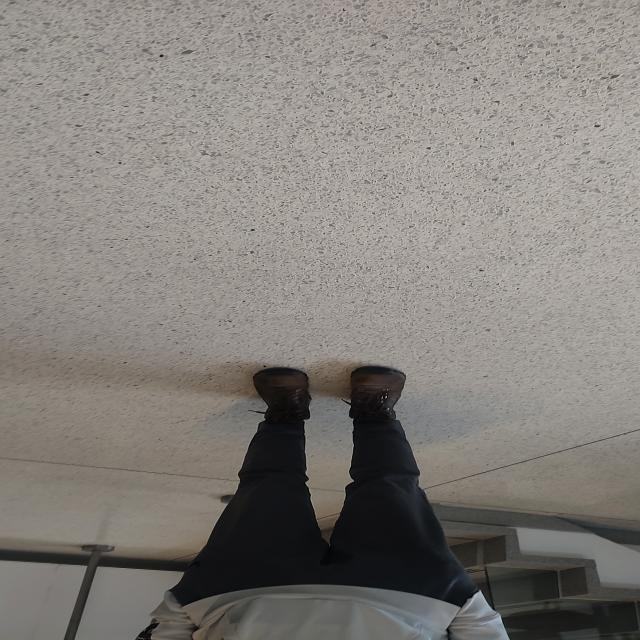Boots: (241, 365, 325, 425), (330, 363, 418, 420)
